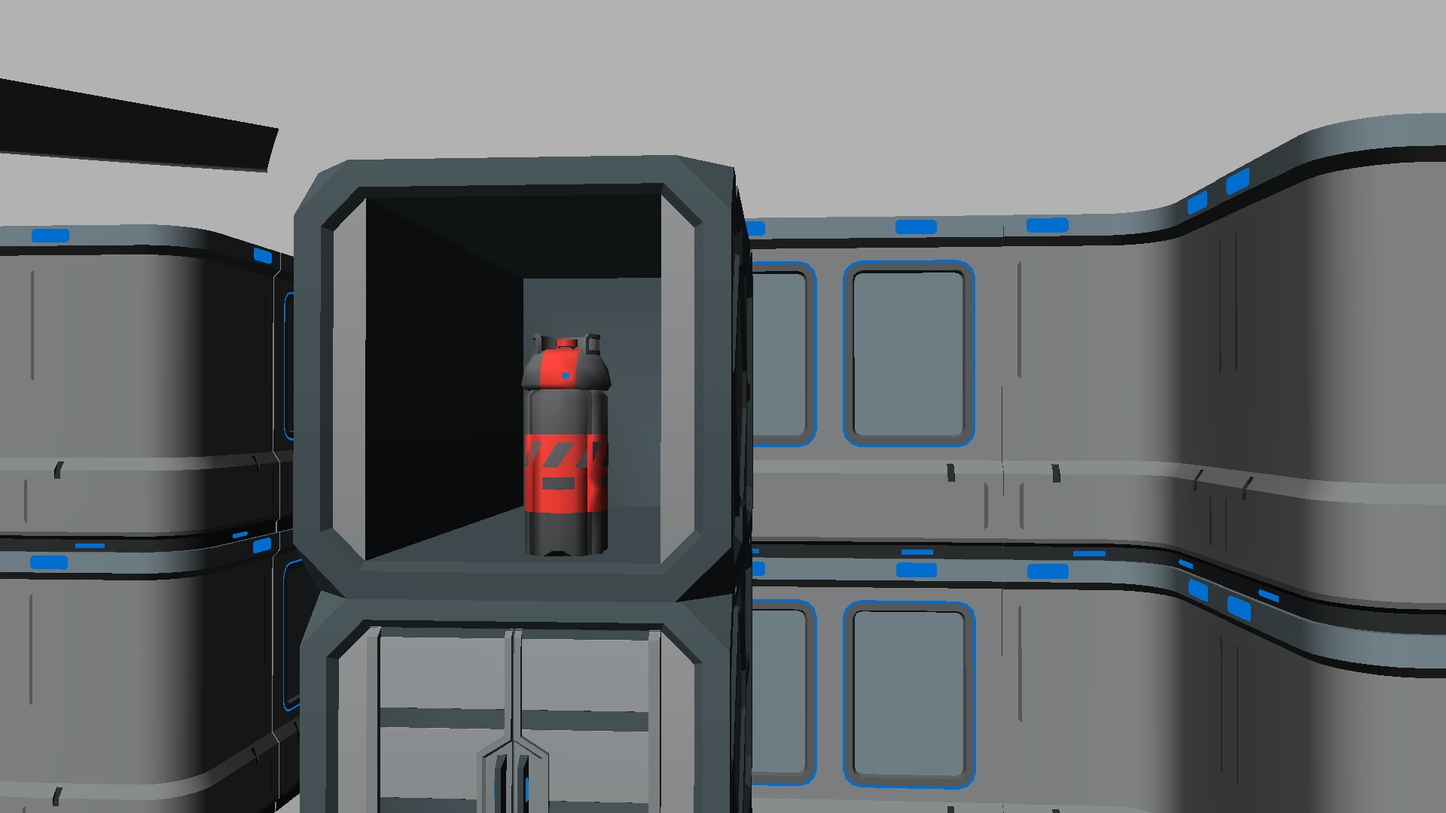red barrel: (520, 334, 611, 557)
